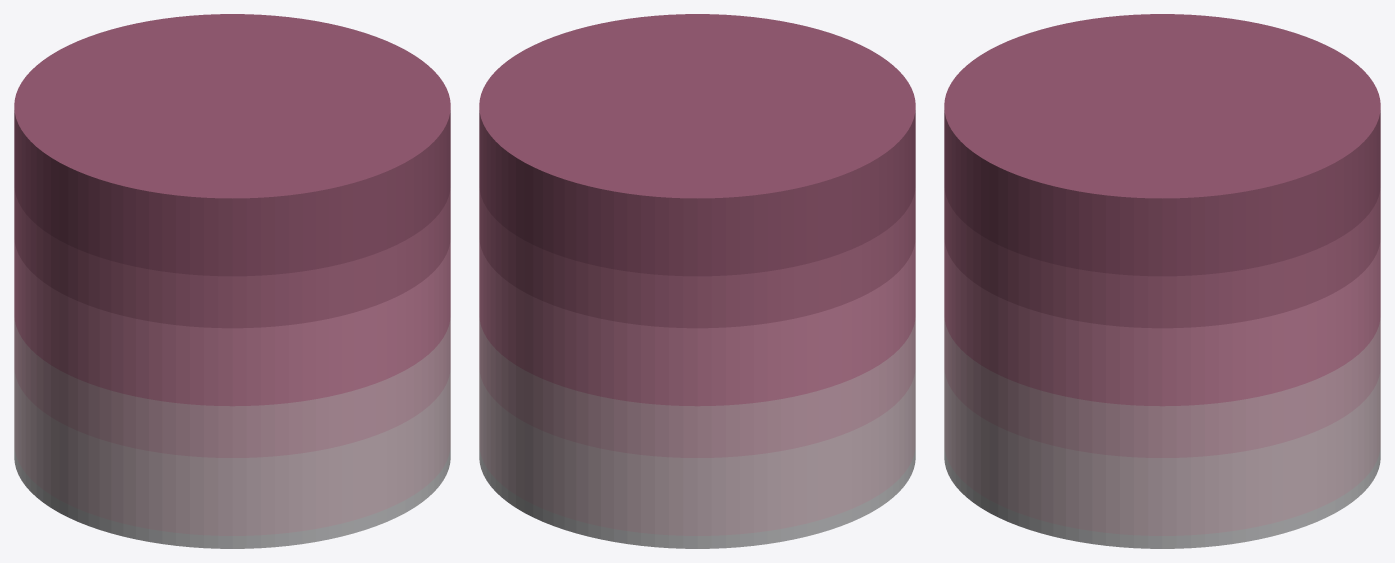
Rendered from cake_6in_layers3.glb.
3 views of the same model, side by side, from view 1: azimuth 30°, elevation 25°; view 2: azimuth 150°, elevation 25°; view 3: azimuth 270°, elevation 25° (orthographic).
Visible parts, largest first — view 1: geometry_4, geometry_0, geometry_2, geometry_3, geometry_1, geometry_5; view 2: geometry_4, geometry_0, geometry_2, geometry_3, geometry_1, geometry_5; view 3: geometry_4, geometry_0, geometry_2, geometry_3, geometry_1, geometry_5.
Boxes of the visible parts, bbox=[...] form: geometry_4: bbox=[14, 14, 450, 276]; geometry_0: bbox=[14, 370, 450, 535]; geometry_2: bbox=[14, 240, 450, 406]; geometry_3: bbox=[14, 188, 450, 328]; geometry_1: bbox=[14, 318, 450, 457]; geometry_5: bbox=[14, 447, 450, 548]; geometry_4: bbox=[479, 14, 915, 276]; geometry_0: bbox=[479, 370, 915, 535]; geometry_2: bbox=[479, 240, 915, 406]; geometry_3: bbox=[479, 188, 915, 328]; geometry_1: bbox=[479, 318, 915, 457]; geometry_5: bbox=[479, 447, 915, 548]; geometry_4: bbox=[944, 14, 1380, 276]; geometry_0: bbox=[944, 370, 1380, 535]; geometry_2: bbox=[944, 240, 1380, 406]; geometry_3: bbox=[944, 188, 1380, 328]; geometry_1: bbox=[944, 318, 1380, 457]; geometry_5: bbox=[944, 447, 1380, 548].
Bounding box in the file's own units: 0.1524 × 0.135 × 0.1524.
